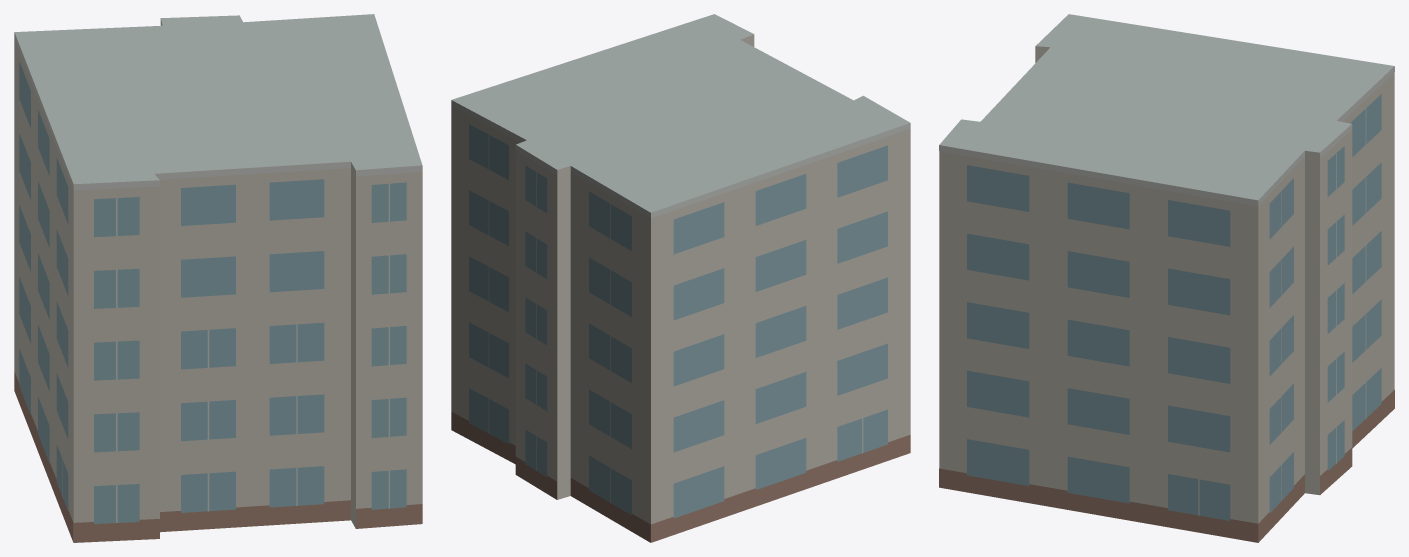
Rendered from survey-upis-32998336.glb.
The picture shows the model from 3 angles, left to right: view 1: azimuth 30°, elevation 25°; view 2: azimuth 150°, elevation 25°; view 3: azimuth 270°, elevation 25°; orthographic projection. The views are drawn at different scales.
Visible parts, largest first — view 1: survey-upis-32998336.tmp; view 2: survey-upis-32998336.tmp; view 3: survey-upis-32998336.tmp.
Boxes of the visible parts, box(x1,y1,x2,y2) form: survey-upis-32998336.tmp: box(14, 14, 422, 542); survey-upis-32998336.tmp: box(451, 14, 910, 542); survey-upis-32998336.tmp: box(939, 14, 1394, 542).
Bounding box in the file's own units: 16.17 × 13.85 × 16.71.
